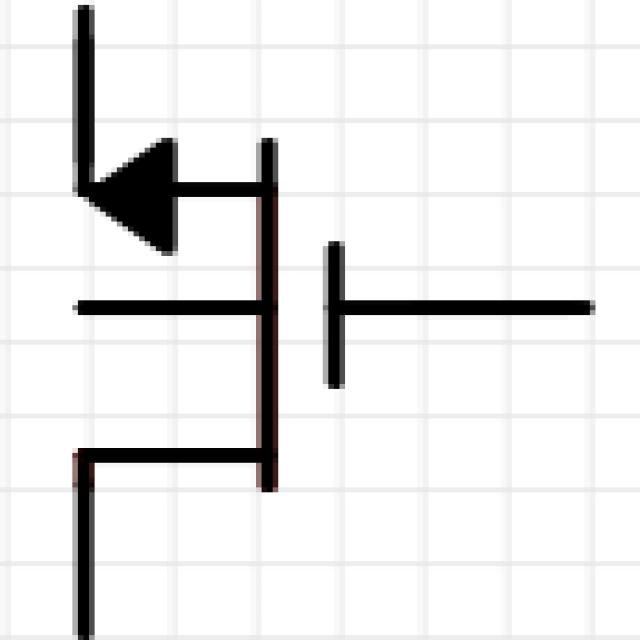pmos: (8, 62, 570, 627)
